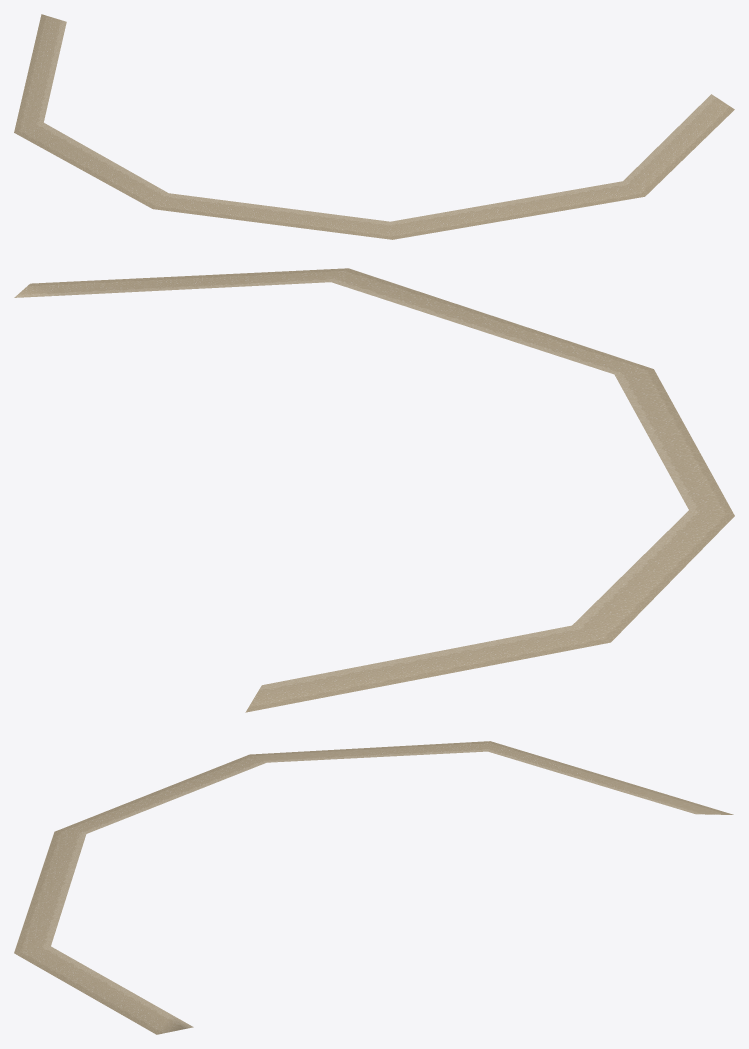
File: kd_stage_1363c5_8_2_bounded.glb
The picture shows the model from 3 angles, top to bottom: view 1: azimuth 30°, elevation 25°; view 2: azimuth 150°, elevation 25°; view 3: azimuth 270°, elevation 25°; orthographic projection. The views are drawn at different scales.
Parts seen in each view (by area): view 1: kd_stage_1363c5_8_2_bounded; view 2: kd_stage_1363c5_8_2_bounded; view 3: kd_stage_1363c5_8_2_bounded.
Part boxes in pixels (x1,y1,x2,y2): kd_stage_1363c5_8_2_bounded: (14,14,734,239); kd_stage_1363c5_8_2_bounded: (14,268,734,712); kd_stage_1363c5_8_2_bounded: (14,741,733,1034).
Size of the model in its own units: 37.06 by 0.2615 by 38.45.
Materials: 1 (1 with a texture image).
